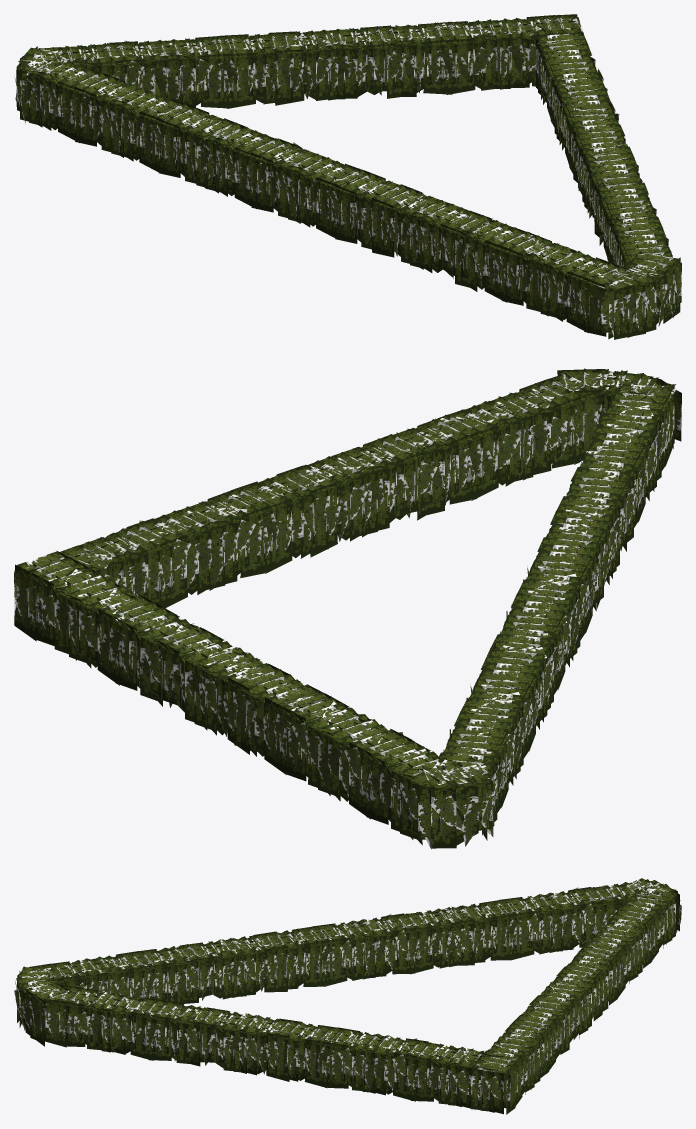
The model's file is Plant0.fbx.
3 views of the same model, one above another, from view 1: azimuth 30°, elevation 25°; view 2: azimuth 150°, elevation 25°; view 3: azimuth 270°, elevation 25° (orthographic). The views are drawn at different scales.
Parts seen in each view (by area): view 1: LV_Campagna_Tree_SG02_SM_HSH; view 2: LV_Campagna_Tree_SG02_SM_HSH; view 3: LV_Campagna_Tree_SG02_SM_HSH.
Boxes of the visible parts, x1,y1,x2,y2 form: LV_Campagna_Tree_SG02_SM_HSH: (14,14,681,339); LV_Campagna_Tree_SG02_SM_HSH: (14,368,681,849); LV_Campagna_Tree_SG02_SM_HSH: (14,878,681,1114).
Size of the model in its own units: 2.47 by 0.2802 by 3.58.
Materials: 2 (2 with a texture image).
